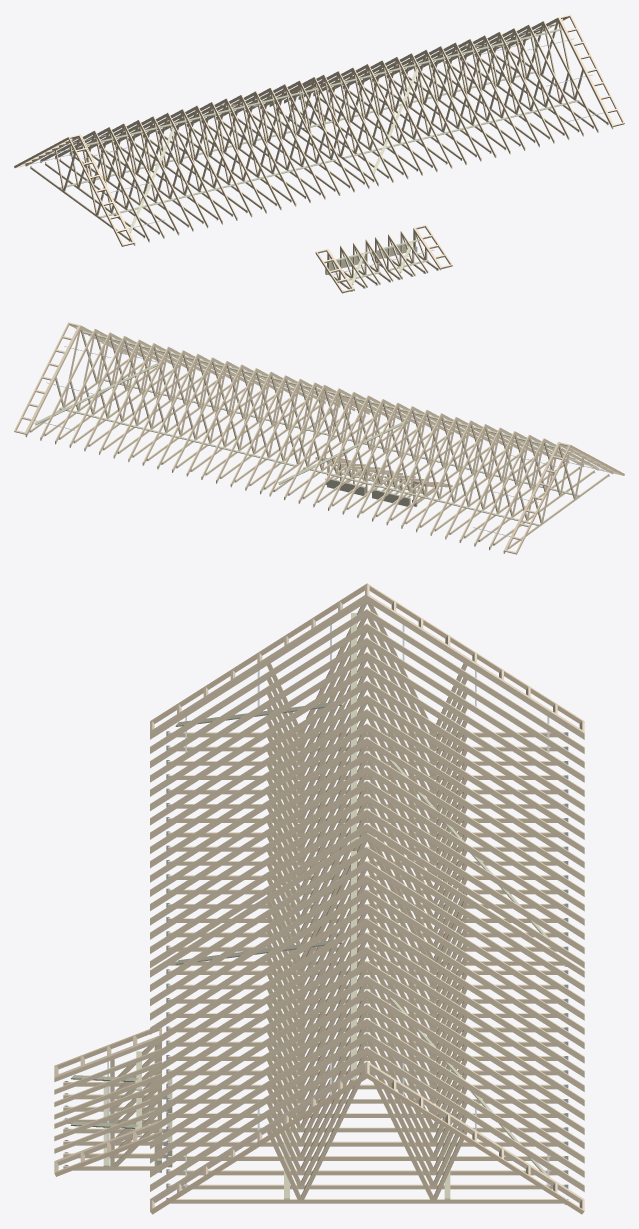
Rendered from stage-6.glb.
The picture shows the model from 3 angles, top to bottom: view 1: azimuth 30°, elevation 25°; view 2: azimuth 150°, elevation 25°; view 3: azimuth 270°, elevation 25°; orthographic projection. The views are drawn at different scales.
Parts seen in each view (by area): view 1: Geom3D_TC01 truss chord 35 x 72 TR26 L1944, Geom3D_TW03 truss web 35 x 72 TR26 L497, Geom3D_BN21 binder 22 x 97 C16 L1507, Geom3D_BG24 barge 47 x 72 C24 L1944, Geom3D_OR26 outrigger 47 x 72 C24 L355, Geom3D_LR25 ladder rail 47 x 72 C24 L1944, Geom3D_HES (30 x 5 heavy restraint strap) strap, Geom3D_LG31 ledger 75 x 220 C24 L167; view 2: Geom3D_TC01 truss chord 35 x 72 TR26 L1944, Geom3D_TW03 truss web 35 x 72 TR26 L497, Geom3D_BN21 binder 22 x 97 C16 L1507, Geom3D_BG24 barge 47 x 72 C24 L1944, Geom3D_OR26 outrigger 47 x 72 C24 L355, Geom3D_LR25 ladder rail 47 x 72 C24 L1944, Geom3D_HES (30 x 5 heavy restraint strap) strap, Geom3D_LG31 ledger 75 x 220 C24 L167; view 3: Geom3D_TC01 truss chord 35 x 72 TR26 L1944, Geom3D_TW03 truss web 35 x 72 TR26 L497, Geom3D_BG24 barge 47 x 72 C24 L1944, Geom3D_BN21 binder 22 x 97 C16 L1507, Geom3D_LR25 ladder rail 47 x 72 C24 L1944, Geom3D_OR26 outrigger 47 x 72 C24 L355, Geom3D_HES (30 x 5 heavy restraint strap) strap.
Part boxes in pixels (bbox=[...]): Geom3D_TC01 truss chord 35 x 72 TR26 L1944: bbox=[25, 17, 613, 291]; Geom3D_TW03 truss web 35 x 72 TR26 L497: bbox=[55, 21, 583, 280]; Geom3D_BN21 binder 22 x 97 C16 L1507: bbox=[59, 28, 579, 284]; Geom3D_BG24 barge 47 x 72 C24 L1944: bbox=[14, 14, 624, 293]; Geom3D_OR26 outrigger 47 x 72 C24 L355: bbox=[16, 15, 623, 292]; Geom3D_LR25 ladder rail 47 x 72 C24 L1944: bbox=[25, 17, 614, 290]; Geom3D_HES (30 x 5 heavy restraint strap) strap: bbox=[28, 25, 608, 291]; Geom3D_LG31 ledger 75 x 220 C24 L167: bbox=[325, 244, 417, 274]; Geom3D_TC01 truss chord 35 x 72 TR26 L1944: bbox=[25, 325, 613, 553]; Geom3D_TW03 truss web 35 x 72 TR26 L497: bbox=[55, 329, 583, 523]; Geom3D_BN21 binder 22 x 97 C16 L1507: bbox=[34, 331, 604, 525]; Geom3D_BG24 barge 47 x 72 C24 L1944: bbox=[14, 322, 624, 554]; Geom3D_OR26 outrigger 47 x 72 C24 L355: bbox=[15, 322, 622, 554]; Geom3D_LR25 ladder rail 47 x 72 C24 L1944: bbox=[24, 325, 613, 551]; Geom3D_HES (30 x 5 heavy restraint strap) strap: bbox=[29, 333, 610, 545]; Geom3D_LG31 ledger 75 x 220 C24 L167: bbox=[325, 478, 417, 506]; Geom3D_TC01 truss chord 35 x 72 TR26 L1944: bbox=[54, 595, 584, 1203]; Geom3D_TW03 truss web 35 x 72 TR26 L497: bbox=[110, 602, 467, 1199]; Geom3D_BG24 barge 47 x 72 C24 L1944: bbox=[54, 583, 584, 1214]; Geom3D_BN21 binder 22 x 97 C16 L1507: bbox=[70, 613, 550, 1199]; Geom3D_LR25 ladder rail 47 x 72 C24 L1944: bbox=[54, 593, 584, 1202]; Geom3D_OR26 outrigger 47 x 72 C24 L355: bbox=[54, 584, 584, 1209]; Geom3D_HES (30 x 5 heavy restraint strap) strap: bbox=[64, 624, 568, 1204].
Bounding box in the file's own units: 19.32 × 5.51 × 8.83.
